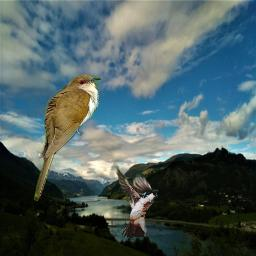Cuckoo: (33, 74, 102, 201)
Swallow: (114, 164, 158, 238)
